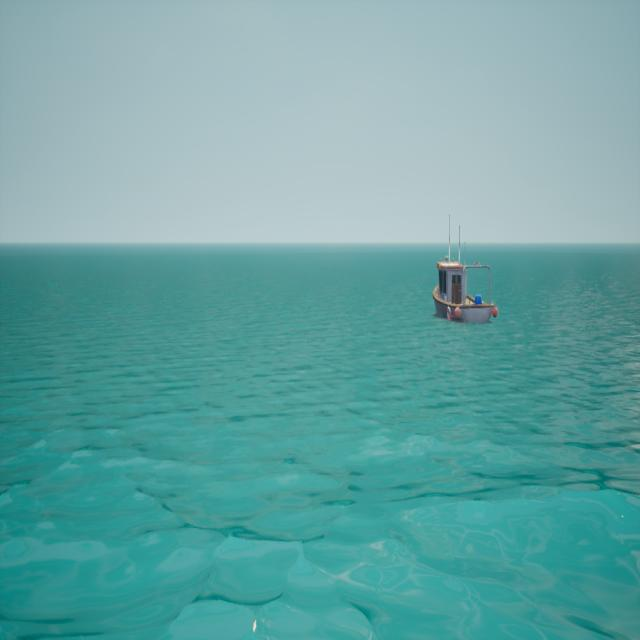ship: (433, 216, 498, 323)
